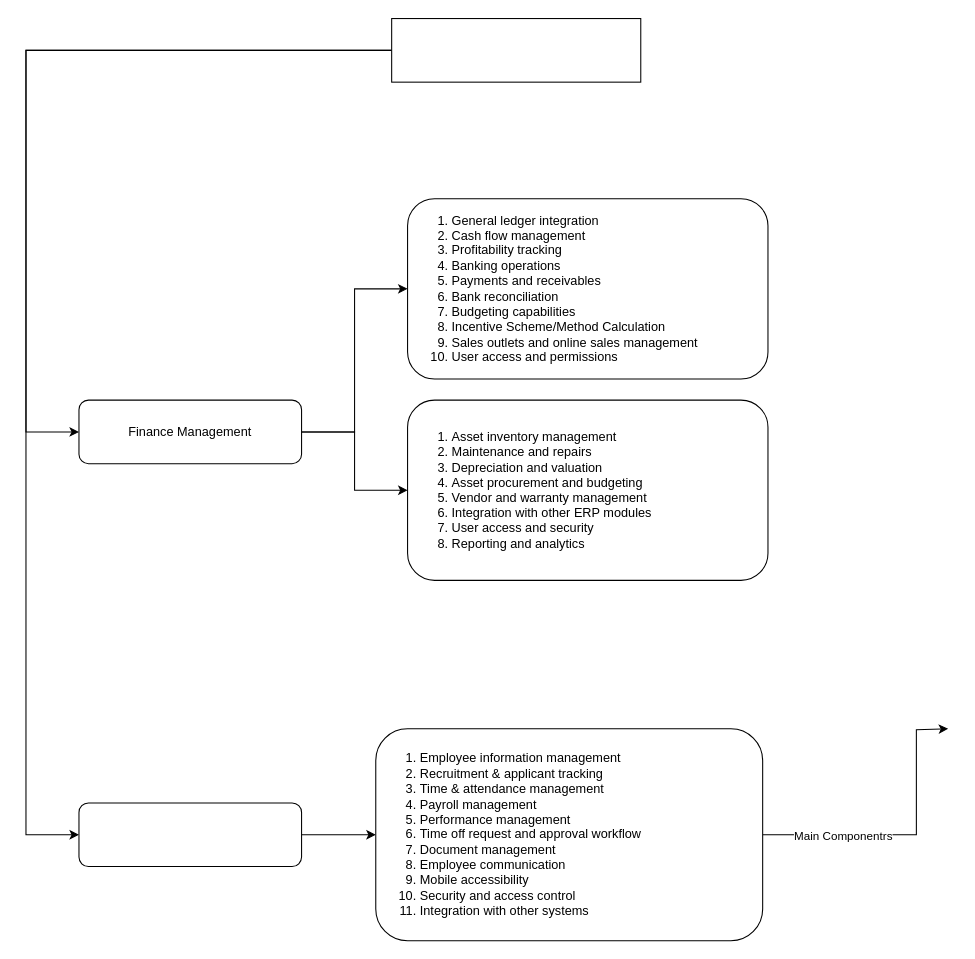
Some shapes in this 975 by 959 pixel diagram are drawn without their labels. Each missing label, with the box of its shape:
ERP Main Dashboard: (391, 17, 641, 82)
Human Resource Management: (78, 802, 302, 867)
